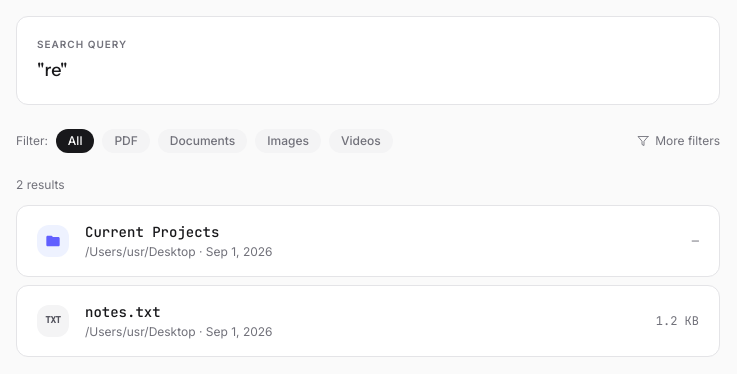
Test case: Search › keeps folders visible under an active quick filter
Click the button "Images" at [288, 141], box [255,129,321,153]
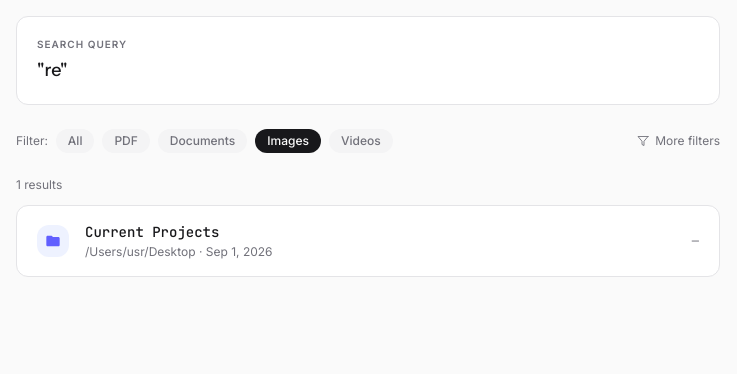
Expected: the text "Current Projects" is shown, [85,223,219,241]
Now the button "notes.txt" is gone
